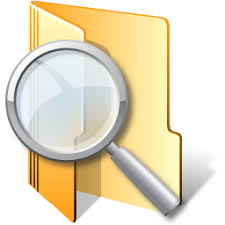searchIcon: (3, 37, 182, 218)
